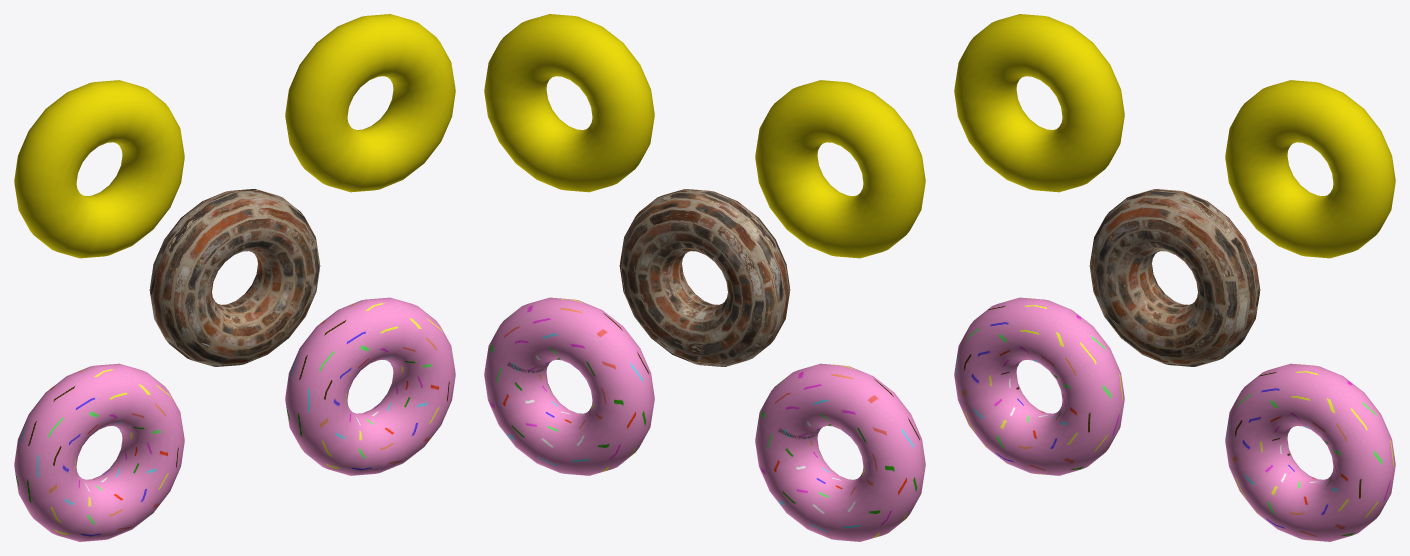
Rendered from donuts.fbx.
The picture shows the model from 3 angles, left to right: view 1: azimuth 30°, elevation 25°; view 2: azimuth 150°, elevation 25°; view 3: azimuth 330°, elevation 25°; orthographic projection.
Parts seen in each view (by area): view 1: pTorus6; view 2: pTorus6; view 3: pTorus6.
Boxes of the visible parts, x1,y1,x2,y2 form: pTorus6: (14,14,455,541); pTorus6: (484,14,925,541); pTorus6: (954,14,1395,541).
Size of the model in its own units: 8 by 8 by 1.
5 materials, 3 textured.
